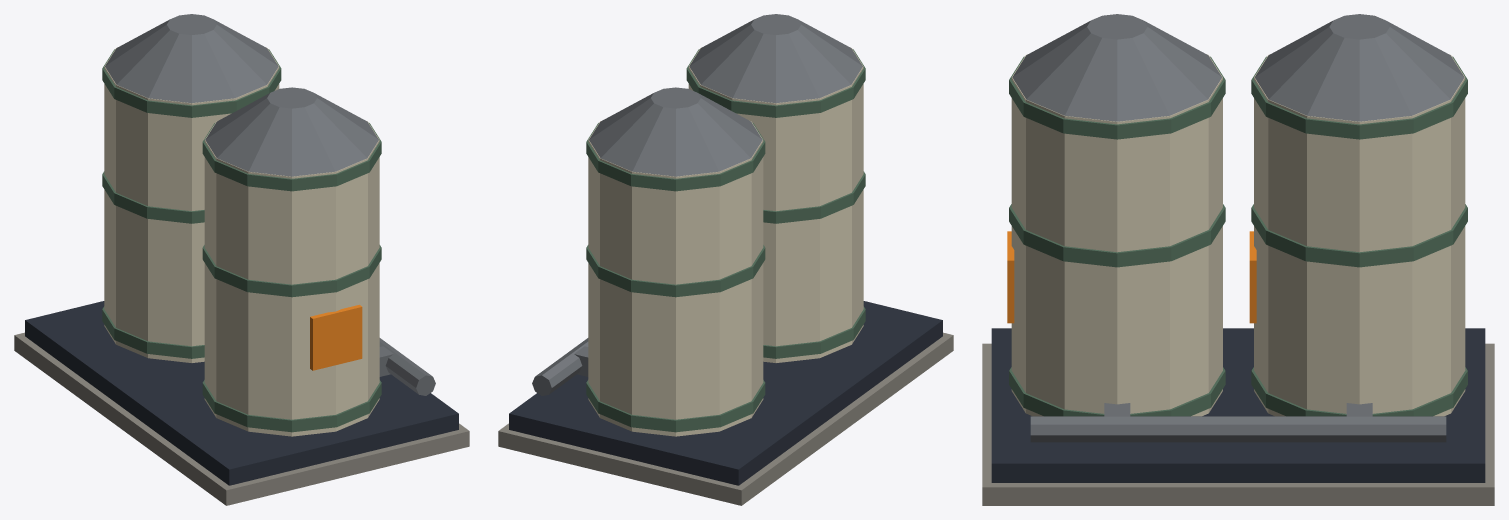
Rendered from installation-tanks.glb.
3 views of the same model, side by side, from view 1: azimuth 30°, elevation 25°; view 2: azimuth 150°, elevation 25°; view 3: azimuth 270°, elevation 25° (orthographic). The views are drawn at different scales.
Parts seen in each view (by area): view 1: installation_tanks; view 2: installation_tanks; view 3: installation_tanks.
Part boxes in pixels (x1,y1,x2,y2): installation_tanks: (14, 14, 469, 505); installation_tanks: (498, 14, 953, 505); installation_tanks: (982, 14, 1494, 505).
Bounding box in the file's own units: 3.92 × 5.19 × 5.92.
